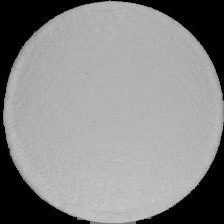49999-575: (0, 0, 224, 224)
